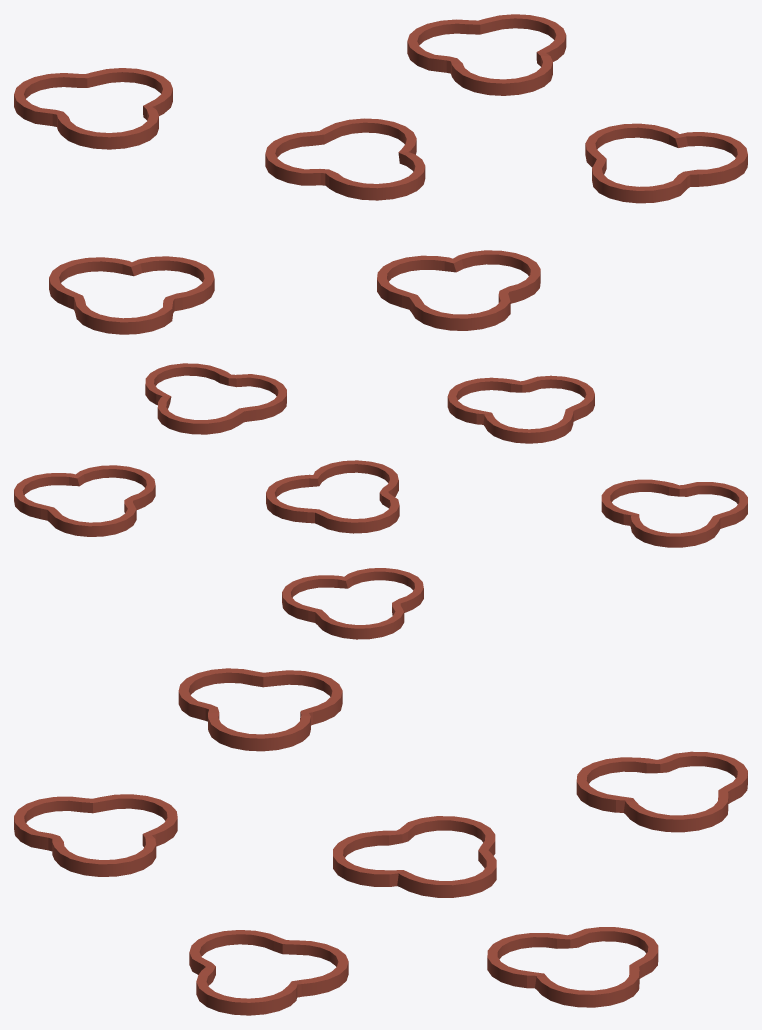
Rendered from pepper.glb.
3 views of the same model, one above another, from view 1: azimuth 30°, elevation 25°; view 2: azimuth 150°, elevation 25°; view 3: azimuth 270°, elevation 25° (orthographic). The views are drawn at different scales.
Visible parts, largest first — view 1: pepper11; view 2: pepper11; view 3: pepper11.
Part boxes in pixels (box(x1,y1,x2,y2)): pepper11: box(14, 14, 747, 334); pepper11: box(14, 363, 747, 639); pepper11: box(14, 668, 747, 1015).
Size of the model in its own units: 0.3069 by 0.00559 by 0.2845.
